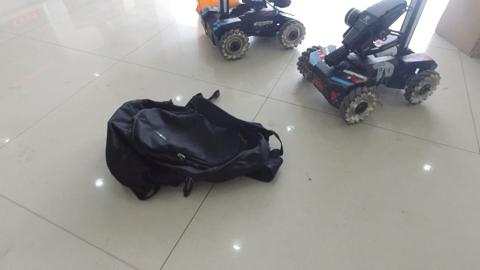bag: (102, 95, 278, 200)
chariot: (296, 1, 441, 123), (199, 2, 307, 59)
